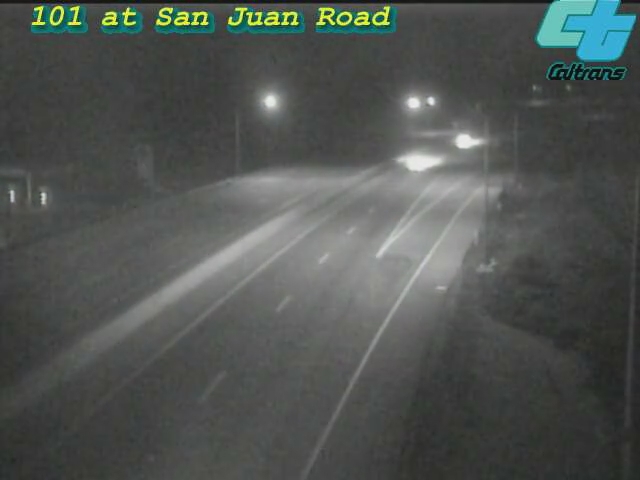vehicle: (382, 121, 462, 201), (436, 116, 486, 166)
